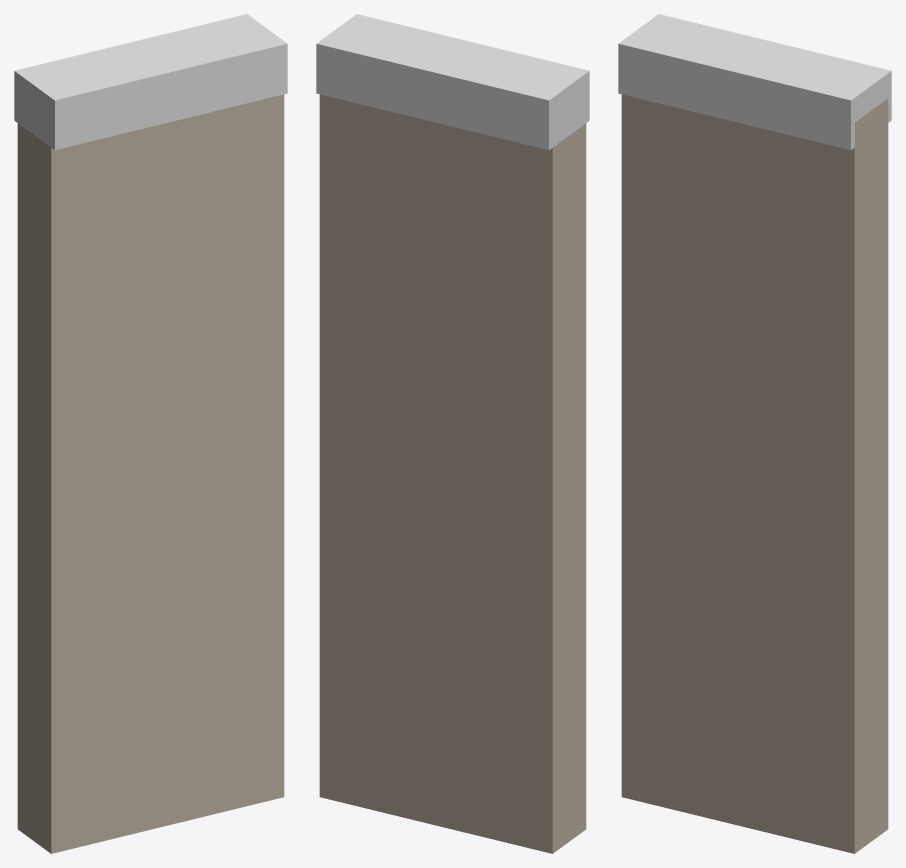
File: Wall_1_Short.fbx
3 renders of one model, left to right at view 1: azimuth 30°, elevation 25°; view 2: azimuth 150°, elevation 25°; view 3: azimuth 330°, elevation 25°, orthographic.
Visible parts, largest first — view 1: Wall_1_Short_LOD0; view 2: Wall_1_Short_LOD0; view 3: Wall_1_Short_LOD0.
Part boxes in pixels (x1=…): Wall_1_Short_LOD0: x1=14, y1=14, x2=287, y2=853; Wall_1_Short_LOD0: x1=316, y1=14, x2=589, y2=853; Wall_1_Short_LOD0: x1=618, y1=14, x2=891, y2=853.
Bounding box in the file's own units: 100 × 310 × 30.18.
